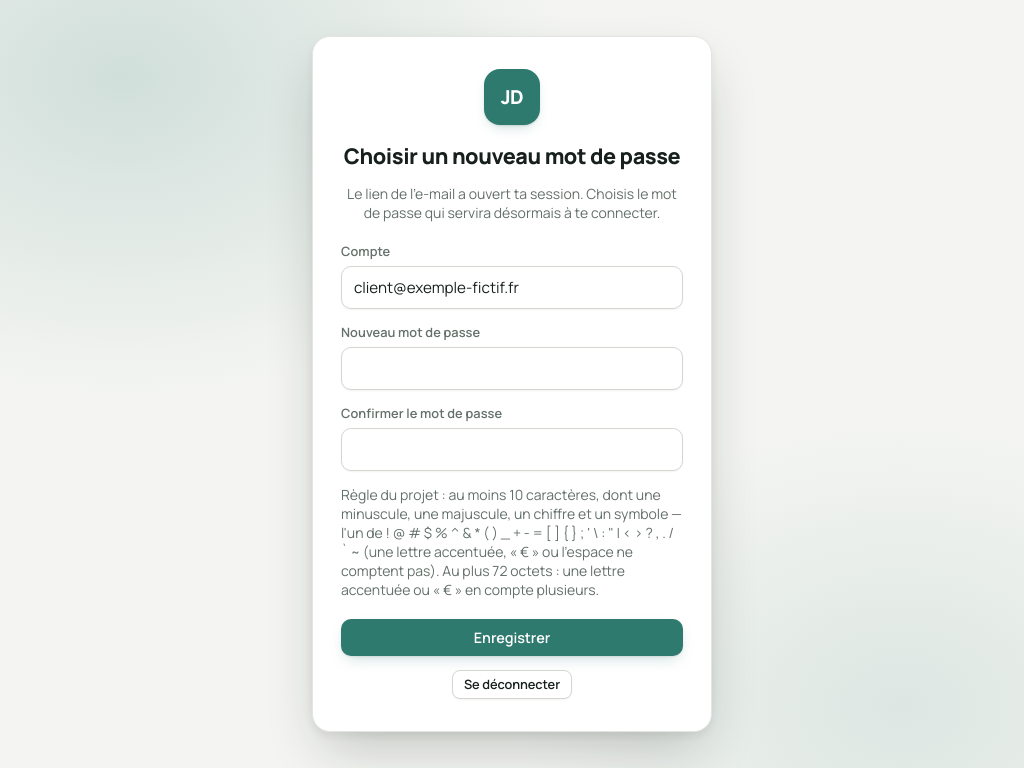
Scenario: NouveauMotDePasse › une erreur inconnue se dit avec le message du service, et une exception aussi
In the password field labelled "Nouveau mot de passe": (512,368) top-left (341, 347), bottom-right (683, 390), type "Un-mot-de-passe-fictif-1"
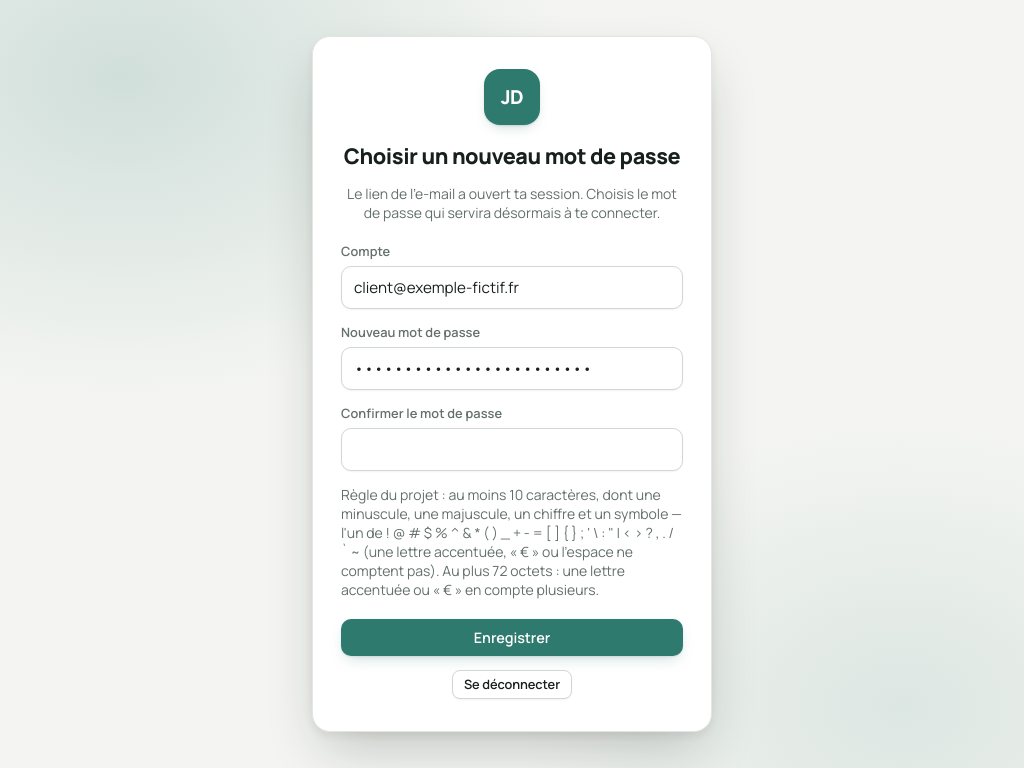
In the password field labelled "Confirmer le mot de passe": (512,449) top-left (341, 428), bottom-right (683, 471), type "Un-mot-de-passe-fictif-1"
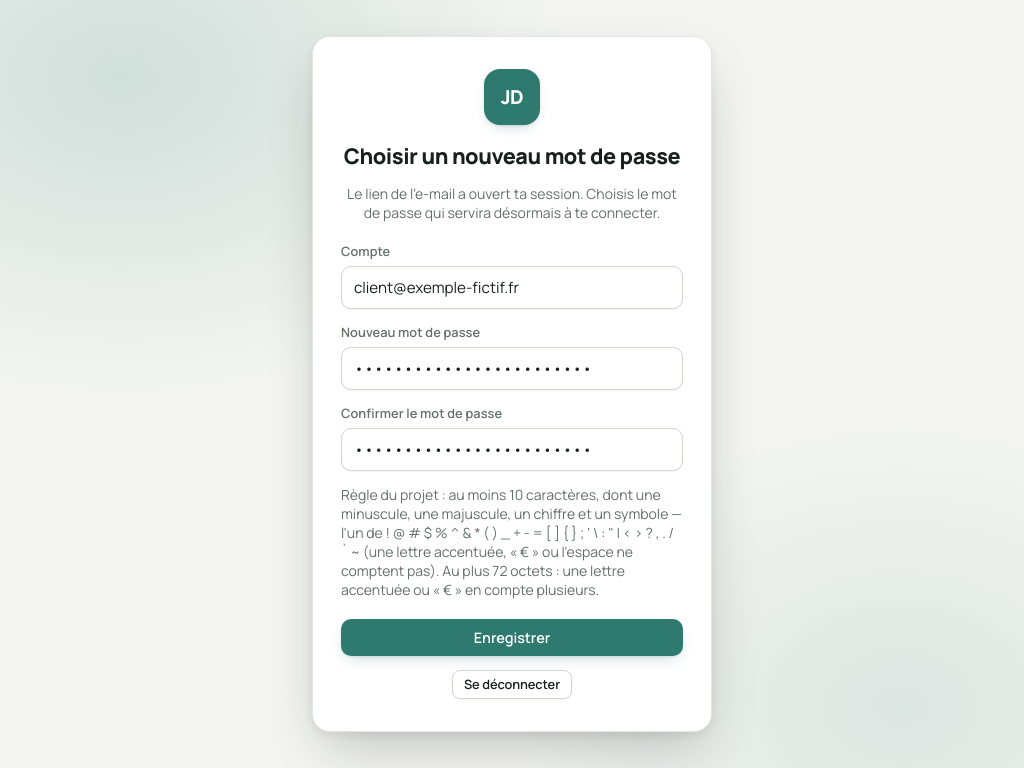
Submit the form named "Enregistrer", box top-left (341, 242), bottom-right (683, 656)
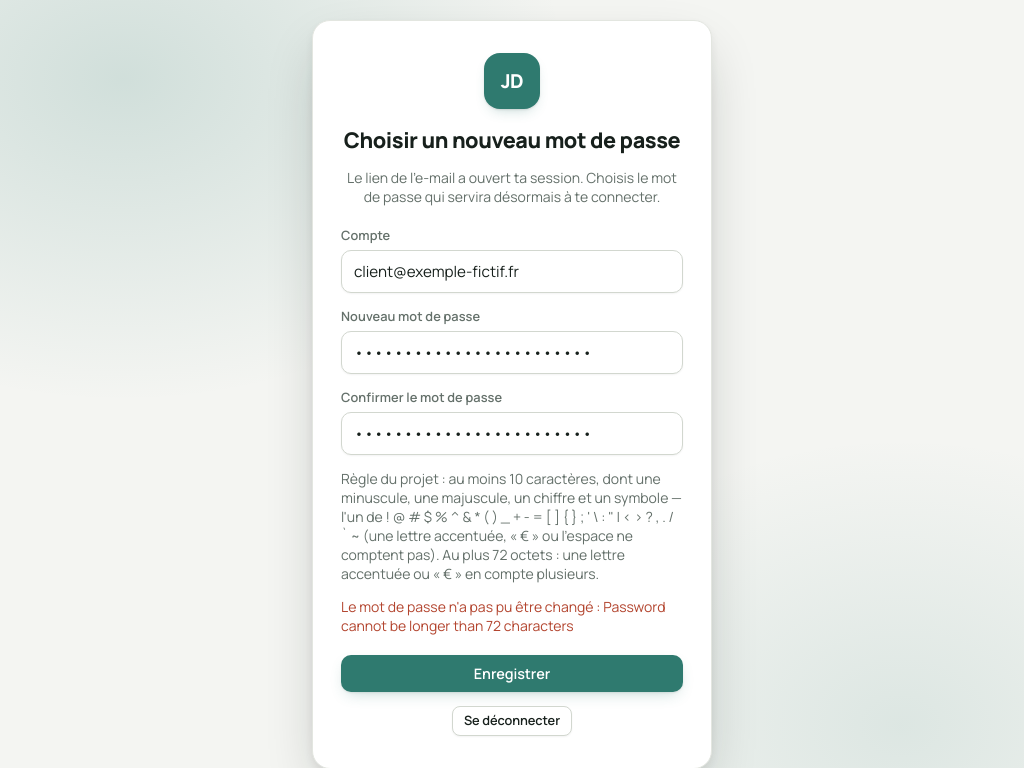
Expected: the message shows "Le mot de passe n'a pas pu être changé : Password cannot be longer than 72 characters", top-left (341, 597), bottom-right (666, 635)
Submit the form named "Enregistrer", box top-left (341, 226), bottom-right (683, 692)
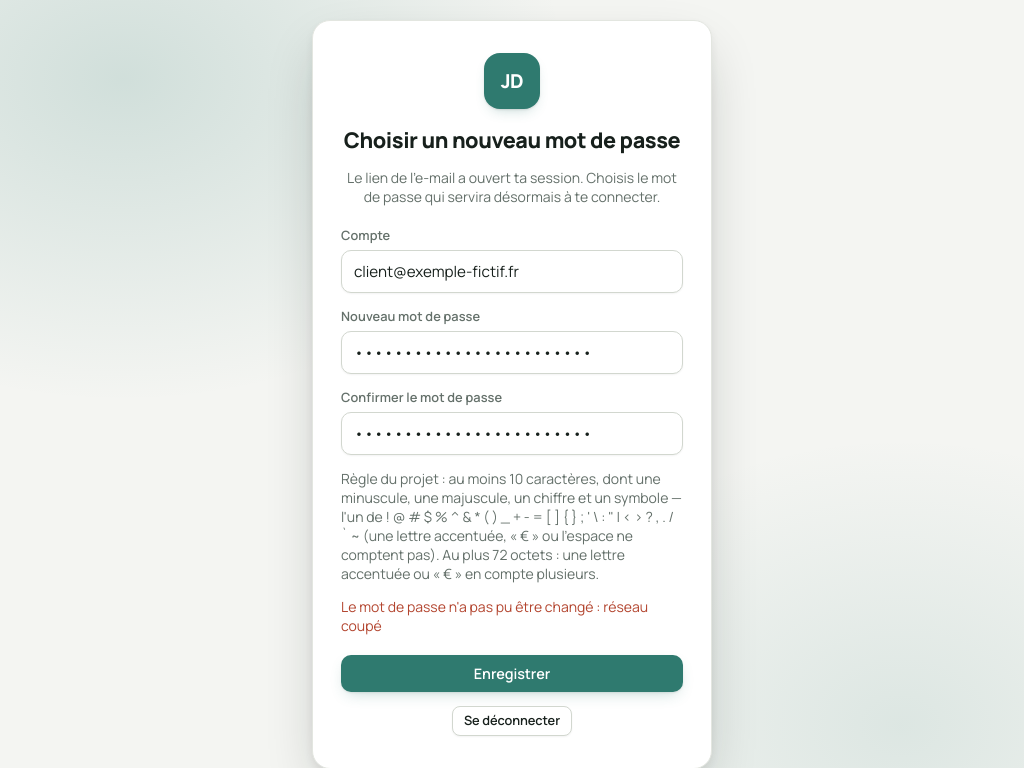
Expected: the message reads "Le mot de passe n'a pas pu être changé : réseau coupé", top-left (341, 597), bottom-right (648, 635)
